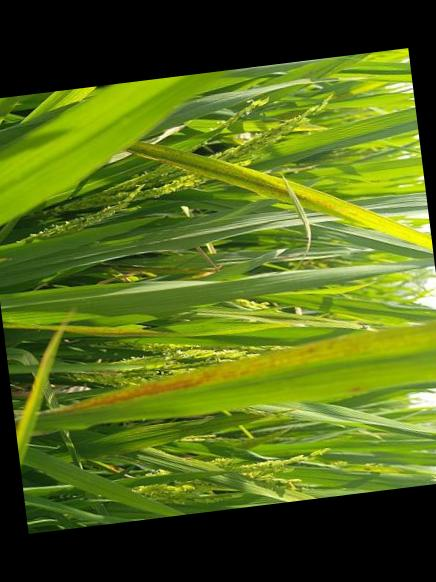Leaf Streak: (38, 325, 436, 415), (123, 142, 433, 253), (14, 334, 61, 453), (62, 324, 170, 341)
